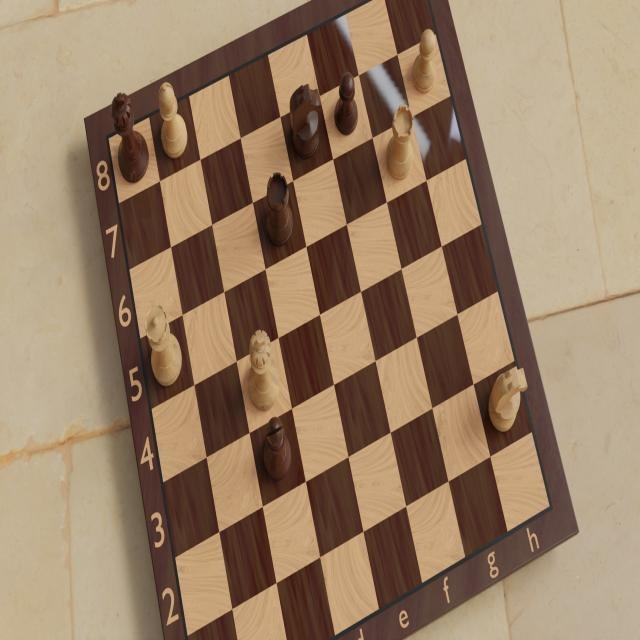black-bishop: (261, 411, 293, 486)
black-king: (109, 91, 151, 185)
black-knight: (288, 79, 326, 166)
black-pawn: (332, 67, 360, 137)
black-rook: (264, 168, 295, 248)
white-bishop: (156, 78, 189, 166)
white-king: (245, 328, 283, 414)
white-knight: (486, 362, 530, 437)
white-pawn: (410, 26, 440, 97)
white-queen: (142, 302, 186, 393)
white-rook: (385, 100, 419, 184)
